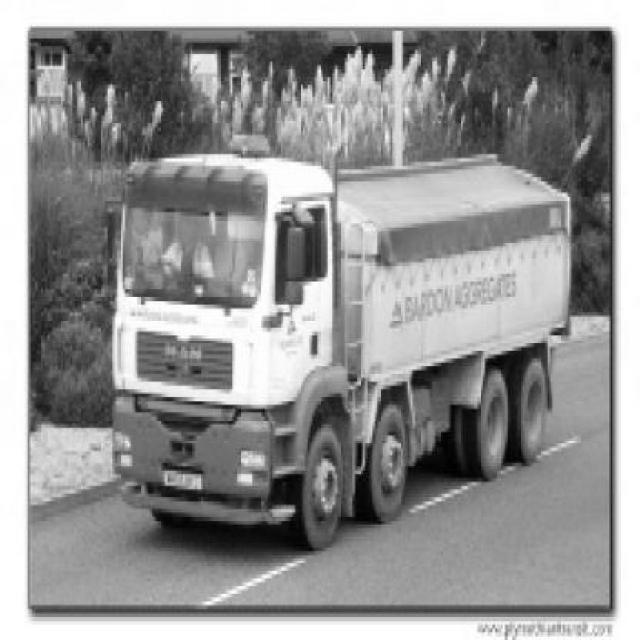Box Truck: (110, 132, 571, 552)
